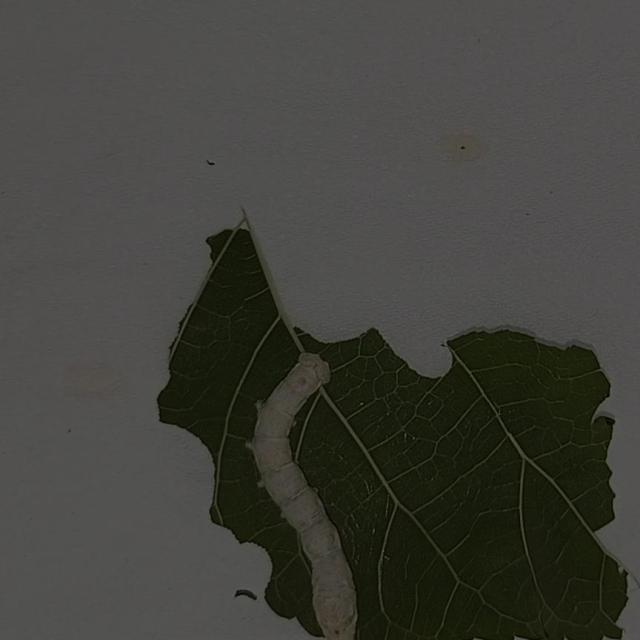Healthy: (244, 344, 380, 640)
